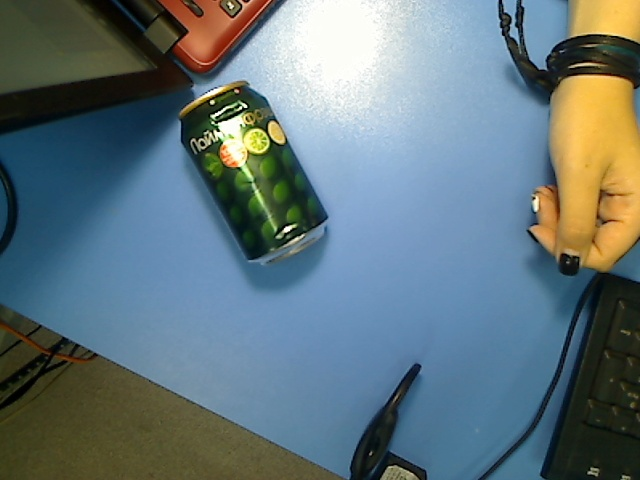can: (178, 80, 330, 269)
